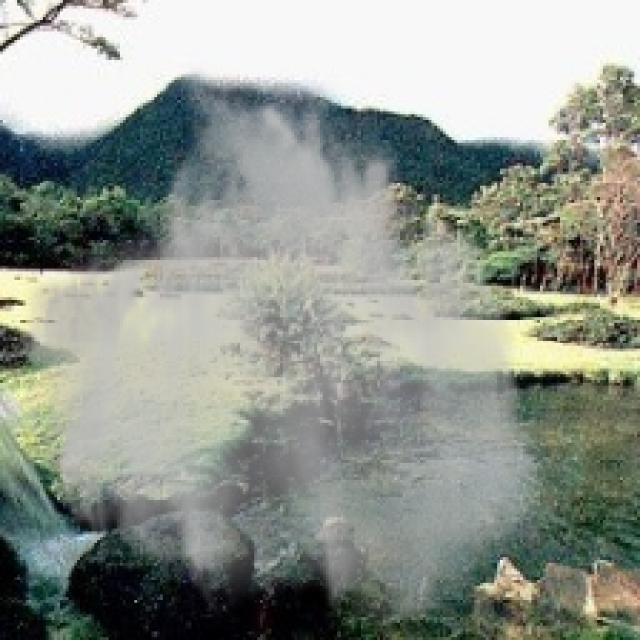smoke: (17, 63, 543, 631)
